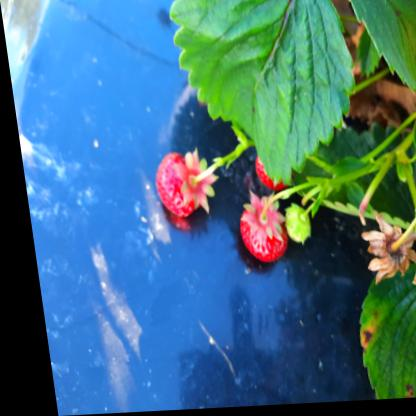ripe: (150, 159, 205, 217), (234, 207, 282, 263), (246, 149, 291, 194)
